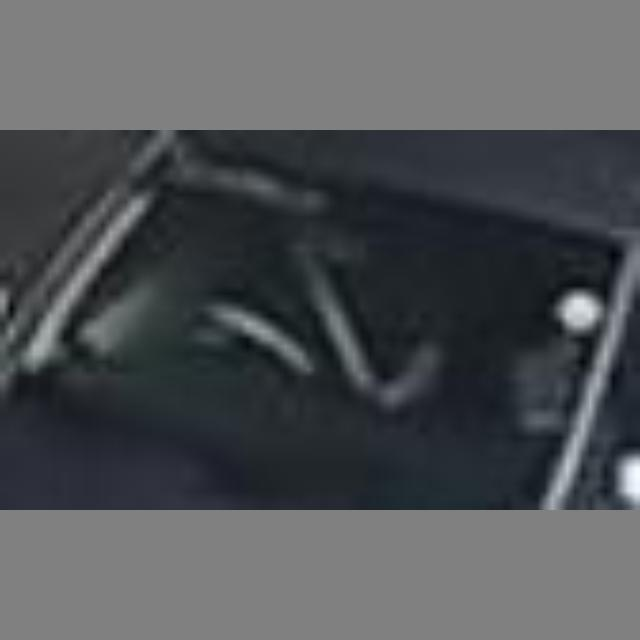pakai: (213, 191, 427, 412)
